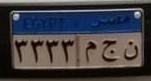3: (61, 38, 75, 64), (45, 39, 60, 63), (30, 38, 44, 63), (14, 39, 27, 62)
jeem: (100, 38, 119, 63)
meem: (83, 40, 98, 63)
noon: (122, 38, 140, 62)
